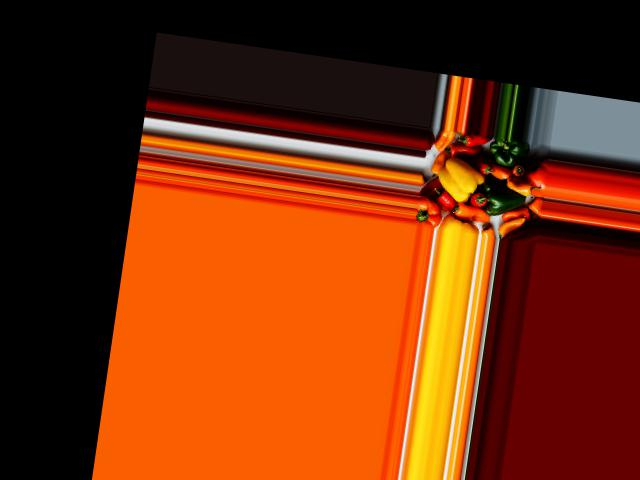bell_pepper: (455, 130, 489, 152)
